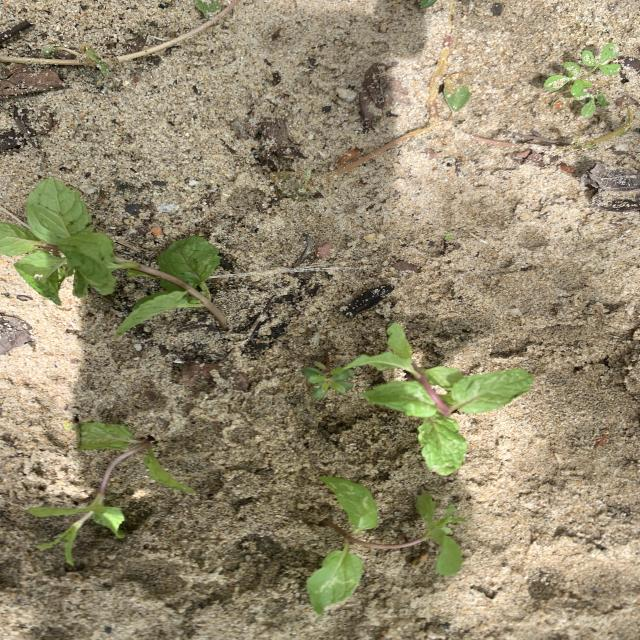crop: (0, 179, 228, 336), (343, 323, 533, 475), (28, 422, 195, 565), (307, 477, 465, 614)
weed: (543, 42, 621, 117), (302, 353, 357, 399)
